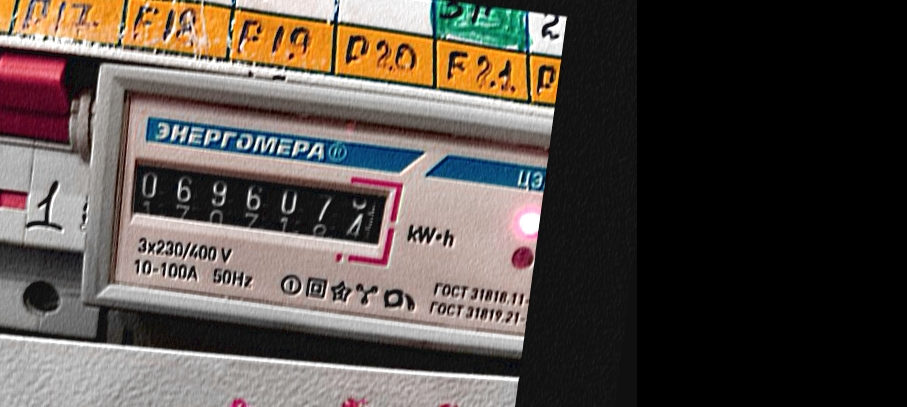0: (139, 168, 164, 200), (280, 186, 302, 217)
4: (344, 209, 367, 241)
6: (244, 181, 268, 214), (175, 173, 197, 204)
7: (314, 189, 336, 222)
9: (209, 177, 233, 209)
screen: (116, 140, 409, 268)
